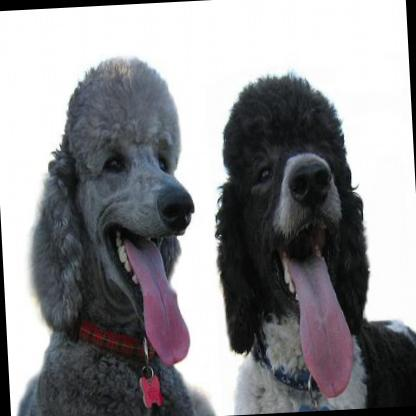standard_poodle: (0, 50, 215, 416), (205, 63, 416, 412)
